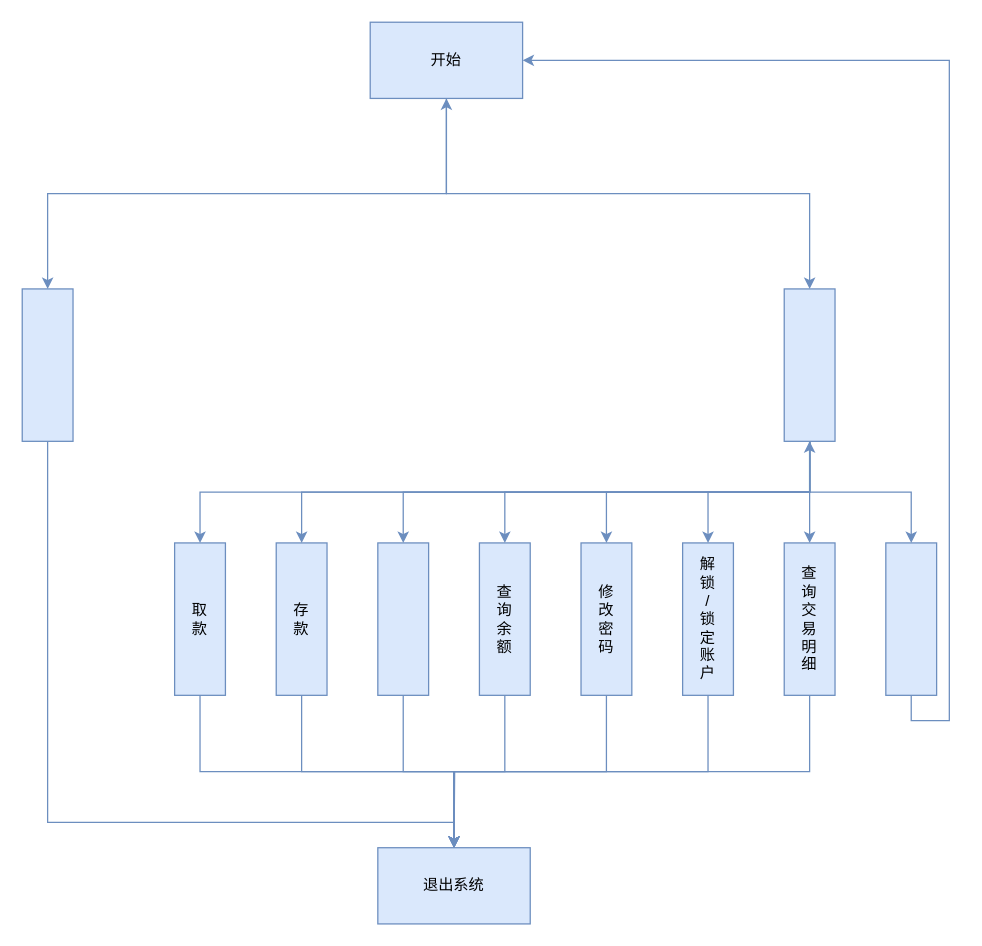
The diagram is 982 pixels wide and 946 high, and some of its shapes have lost their labels. Each missing label, with the centre of its shape:
"开 户 注 册" belongs at (47,364).
"登 入" belongs at (809,364).
"登 出" belongs at (911,618).
"转 账" belongs at (403,618).
